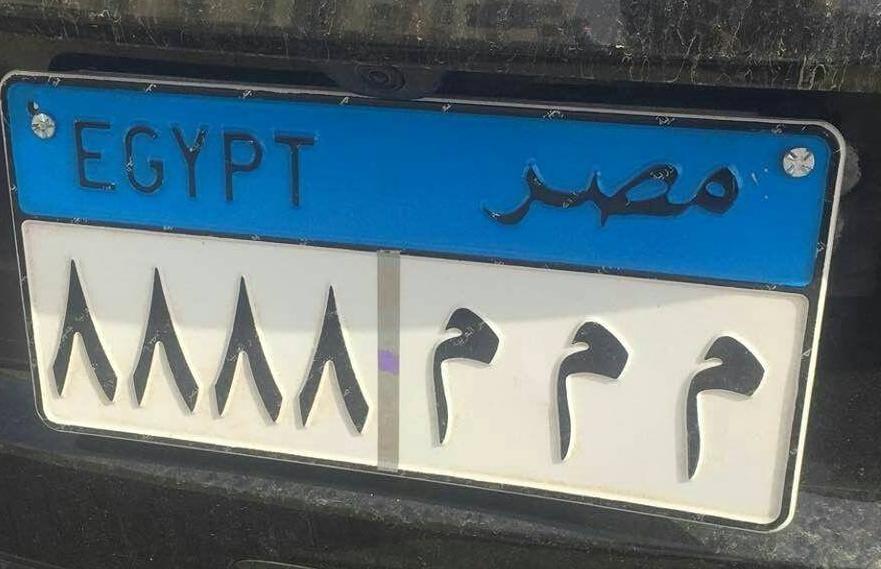8: (34, 241, 120, 421), (118, 258, 202, 429), (209, 263, 288, 436), (291, 280, 370, 447)
meem: (664, 328, 768, 500), (537, 309, 634, 473), (416, 297, 508, 453)
